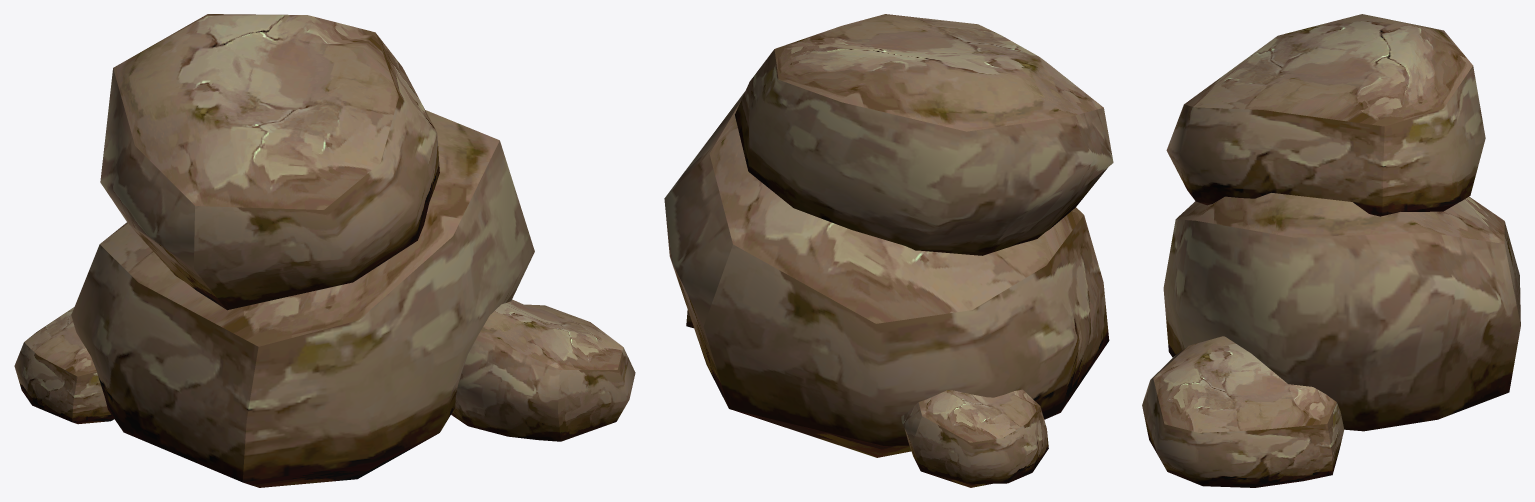
File: hut_env_cover_rock_short02.glb
3 views of the same model, side by side, from view 1: azimuth 30°, elevation 25°; view 2: azimuth 150°, elevation 25°; view 3: azimuth 270°, elevation 25° (orthographic). The views are drawn at different scales.
Parts seen in each view (by area): view 1: dro_junglerock07, dro_junglerock11, dro_junglerock13, dro_junglerock12; view 2: dro_junglerock07, dro_junglerock11, dro_junglerock12; view 3: dro_junglerock07, dro_junglerock11, dro_junglerock13.
Part boxes in pixels (bbox=[...]): dro_junglerock07: bbox=[71, 110, 534, 487]; dro_junglerock11: bbox=[100, 14, 439, 310]; dro_junglerock13: bbox=[451, 299, 635, 441]; dro_junglerock12: bbox=[14, 307, 114, 424]; dro_junglerock07: bbox=[664, 92, 1109, 457]; dro_junglerock11: bbox=[735, 14, 1113, 255]; dro_junglerock12: bbox=[901, 389, 1048, 487]; dro_junglerock07: bbox=[1163, 193, 1520, 431]; dro_junglerock11: bbox=[1166, 14, 1485, 216]; dro_junglerock13: bbox=[1142, 336, 1344, 487].
Size of the model in its own units: 0.1701 by 0.1401 by 0.135.
Materials: 1 (1 with a texture image).
